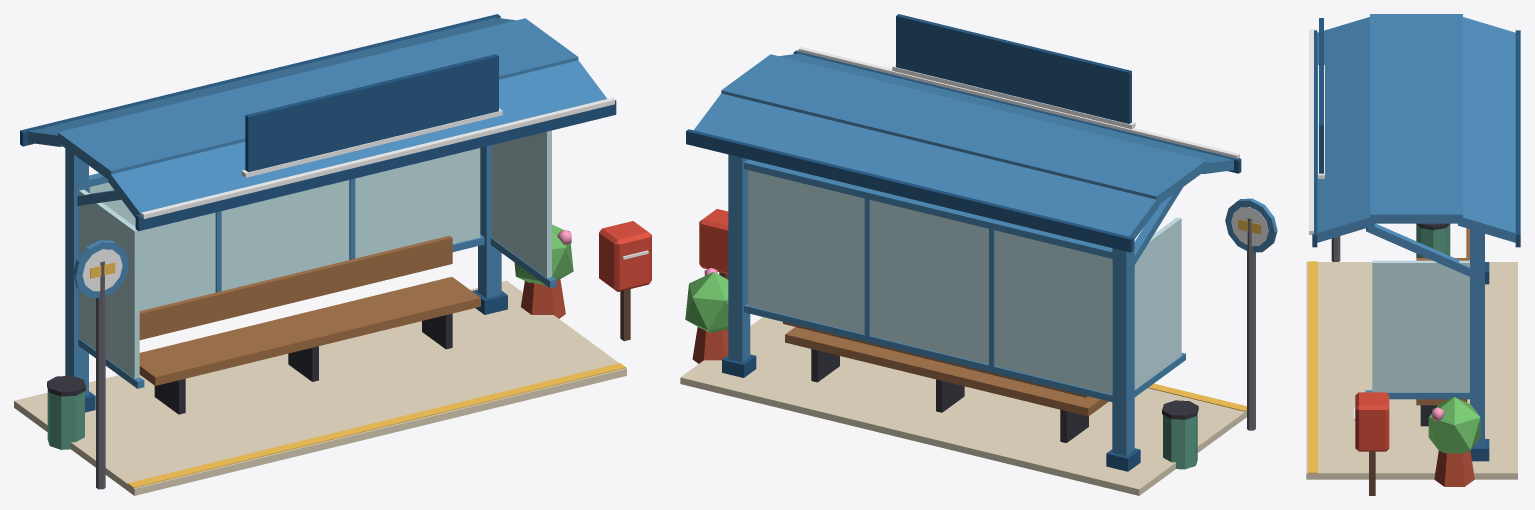
The model's file is tram-xe-buyt-lon.glb.
3 views of the same model, side by side, from view 1: azimuth 30°, elevation 25°; view 2: azimuth 150°, elevation 25°; view 3: azimuth 270°, elevation 25° (orthographic). The views are drawn at different scales.
Visible parts, largest first — view 1: tram-xe-buyt-lon-2, tram-xe-buyt-lon-0, tram-xe-buyt-lon-5, tram-xe-buyt-lon-3, tram-xe-buyt-lon-6, tram-xe-buyt-lon-4, tram-xe-buyt-lon-1, tram-xe-buyt-lon-13, tram-xe-buyt-lon-7, tram-xe-buyt-lon-8, tram-xe-buyt-lon-9, tram-xe-buyt-lon-10 (+1 smaller); view 2: tram-xe-buyt-lon-2, tram-xe-buyt-lon-5, tram-xe-buyt-lon-0, tram-xe-buyt-lon-3, tram-xe-buyt-lon-6, tram-xe-buyt-lon-4, tram-xe-buyt-lon-7, tram-xe-buyt-lon-11, tram-xe-buyt-lon-8, tram-xe-buyt-lon-13, tram-xe-buyt-lon-9, tram-xe-buyt-lon-10 (+1 smaller); view 3: tram-xe-buyt-lon-2, tram-xe-buyt-lon-0, tram-xe-buyt-lon-5, tram-xe-buyt-lon-3, tram-xe-buyt-lon-11, tram-xe-buyt-lon-1, tram-xe-buyt-lon-13, tram-xe-buyt-lon-4, tram-xe-buyt-lon-10, tram-xe-buyt-lon-9, tram-xe-buyt-lon-7, tram-xe-buyt-lon-6 (+1 smaller).
Part boxes in pixels (x1=…): tram-xe-buyt-lon-2: x1=28, y1=17, x2=606, y2=396; tram-xe-buyt-lon-0: x1=14, y1=280, x2=626, y2=495; tram-xe-buyt-lon-5: x1=79, y1=130, x2=551, y2=378; tram-xe-buyt-lon-3: x1=20, y1=14, x2=616, y2=412; tram-xe-buyt-lon-6: x1=139, y1=235, x2=480, y2=385; tram-xe-buyt-lon-4: x1=82, y1=98, x2=648, y2=291; tram-xe-buyt-lon-1: x1=90, y1=262, x2=626, y2=488; tram-xe-buyt-lon-13: x1=599, y1=221, x2=651, y2=291; tram-xe-buyt-lon-7: x1=47, y1=313, x2=452, y2=414; tram-xe-buyt-lon-8: x1=96, y1=261, x2=105, y2=489; tram-xe-buyt-lon-9: x1=47, y1=389, x2=84, y2=449; tram-xe-buyt-lon-10: x1=521, y1=279, x2=565, y2=318; tram-xe-buyt-lon-2: x1=694, y1=53, x2=1277, y2=456; tram-xe-buyt-lon-5: x1=748, y1=170, x2=1181, y2=394; tram-xe-buyt-lon-0: x1=680, y1=317, x2=1246, y2=495; tram-xe-buyt-lon-3: x1=686, y1=14, x2=1241, y2=471; tram-xe-buyt-lon-6: x1=783, y1=322, x2=1108, y2=416; tram-xe-buyt-lon-4: x1=798, y1=47, x2=1268, y2=246; tram-xe-buyt-lon-7: x1=811, y1=349, x2=1198, y2=442; tram-xe-buyt-lon-11: x1=685, y1=272, x2=728, y2=332; tram-xe-buyt-lon-8: x1=1247, y1=218, x2=1255, y2=430; tram-xe-buyt-lon-13: x1=699, y1=209, x2=728, y2=274; tram-xe-buyt-lon-9: x1=1163, y1=413, x2=1197, y2=469; tram-xe-buyt-lon-10: x1=692, y1=327, x2=728, y2=363; tram-xe-buyt-lon-2: x1=1317, y1=14, x2=1515, y2=446; tram-xe-buyt-lon-0: x1=1306, y1=262, x2=1517, y2=479; tram-xe-buyt-lon-5: x1=1372, y1=260, x2=1469, y2=392; tram-xe-buyt-lon-3: x1=1312, y1=18, x2=1520, y2=461; tram-xe-buyt-lon-11: x1=1428, y1=397, x2=1480, y2=453; tram-xe-buyt-lon-1: x1=1308, y1=261, x2=1317, y2=473; tram-xe-buyt-lon-13: x1=1355, y1=392, x2=1389, y2=451; tram-xe-buyt-lon-4: x1=1309, y1=29, x2=1355, y2=420; tram-xe-buyt-lon-10: x1=1434, y1=450, x2=1474, y2=486; tram-xe-buyt-lon-9: x1=1416, y1=224, x2=1450, y2=257; tram-xe-buyt-lon-7: x1=1417, y1=223, x2=1449, y2=426; tram-xe-buyt-lon-6: x1=1416, y1=228, x2=1469, y2=405.
Size of the model in its own units: 7.08 by 3.93 by 2.53.
